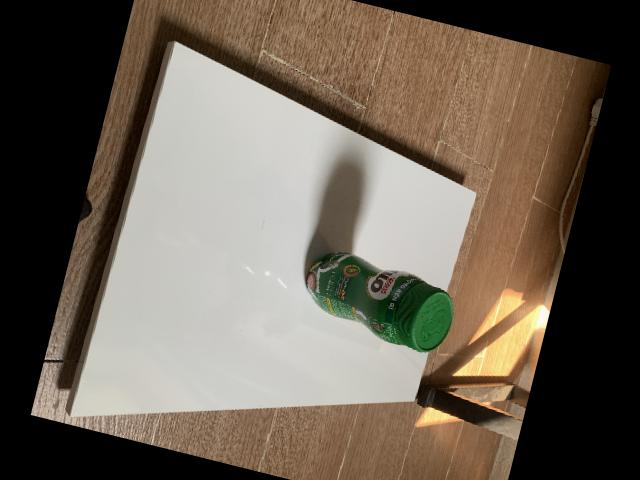milo: (305, 251, 452, 352)
